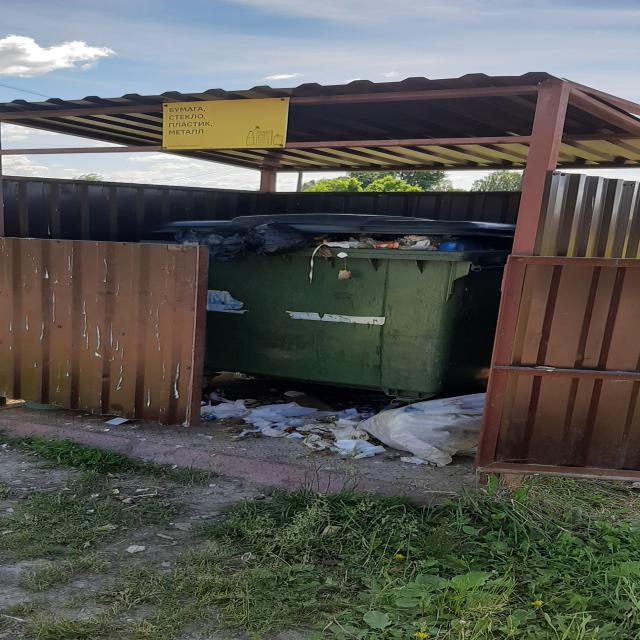bin: (137, 192, 536, 400)
